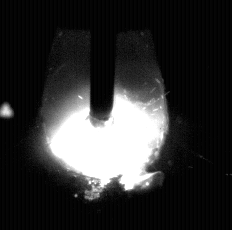arame: (91, 0, 115, 127)
poca: (41, 0, 169, 230)
